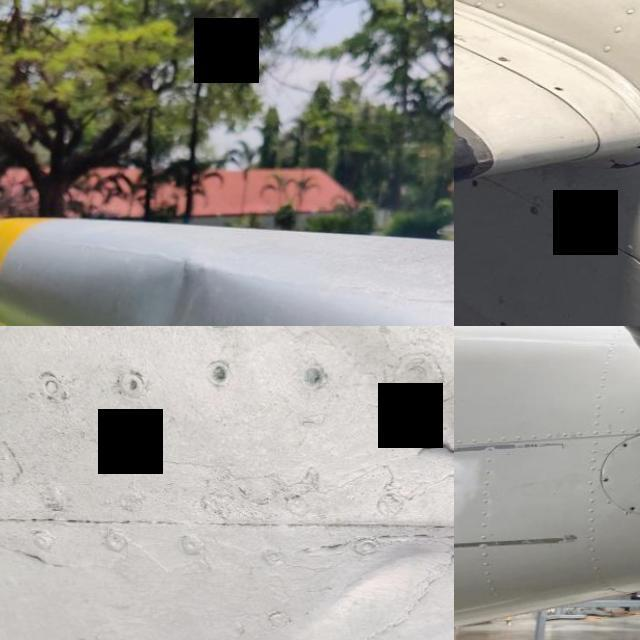Dent: (274, 522, 454, 640), (107, 244, 232, 326)
Missing_Fastener: (556, 80, 572, 94), (454, 276, 462, 289), (626, 443, 632, 448), (635, 507, 640, 510)
